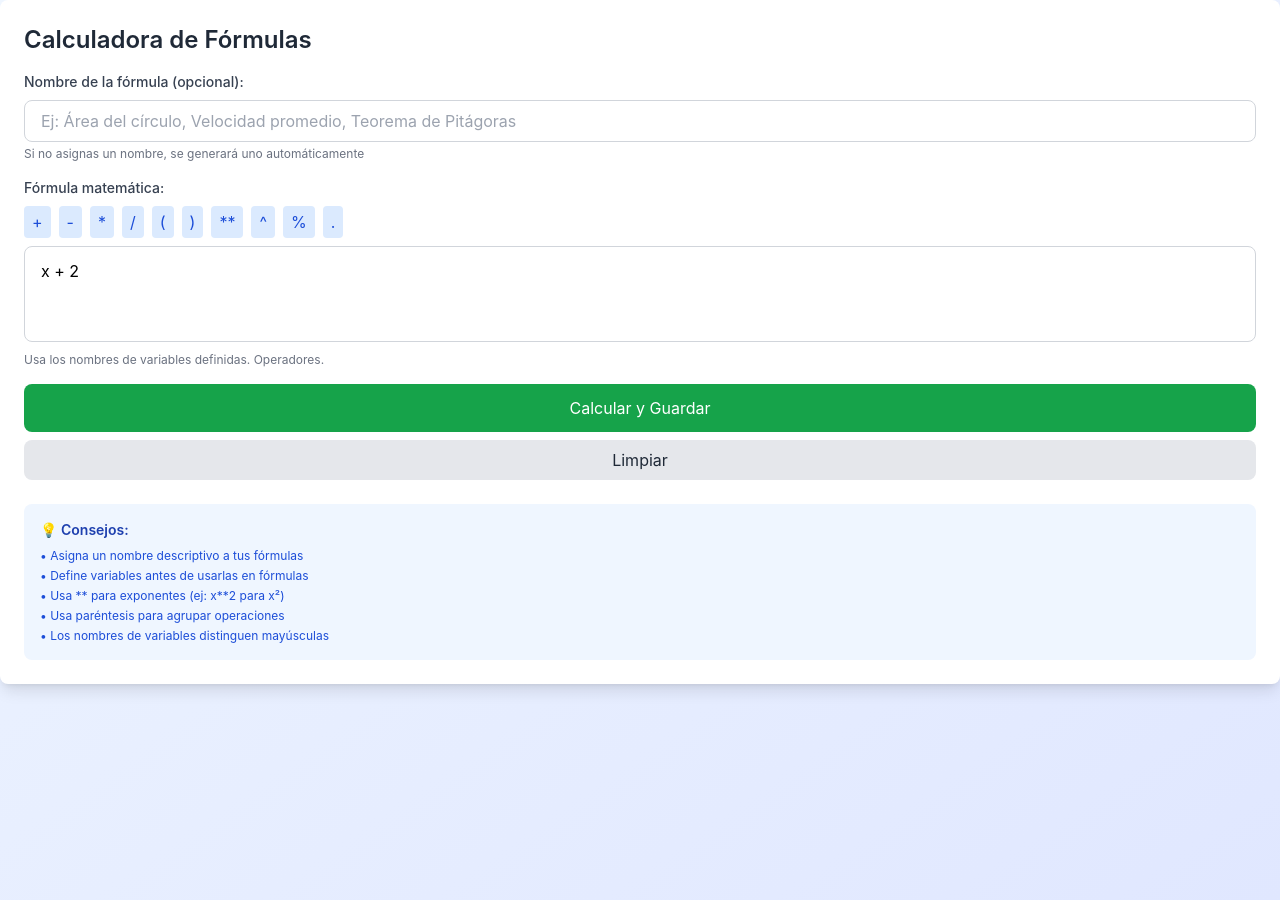
calcula y muestra el resultado al hacer clic en Calcular y Guardar
Step 1. Click the button "Calcular y Guardar" → [640, 408], box 24,384 -> 1256,432
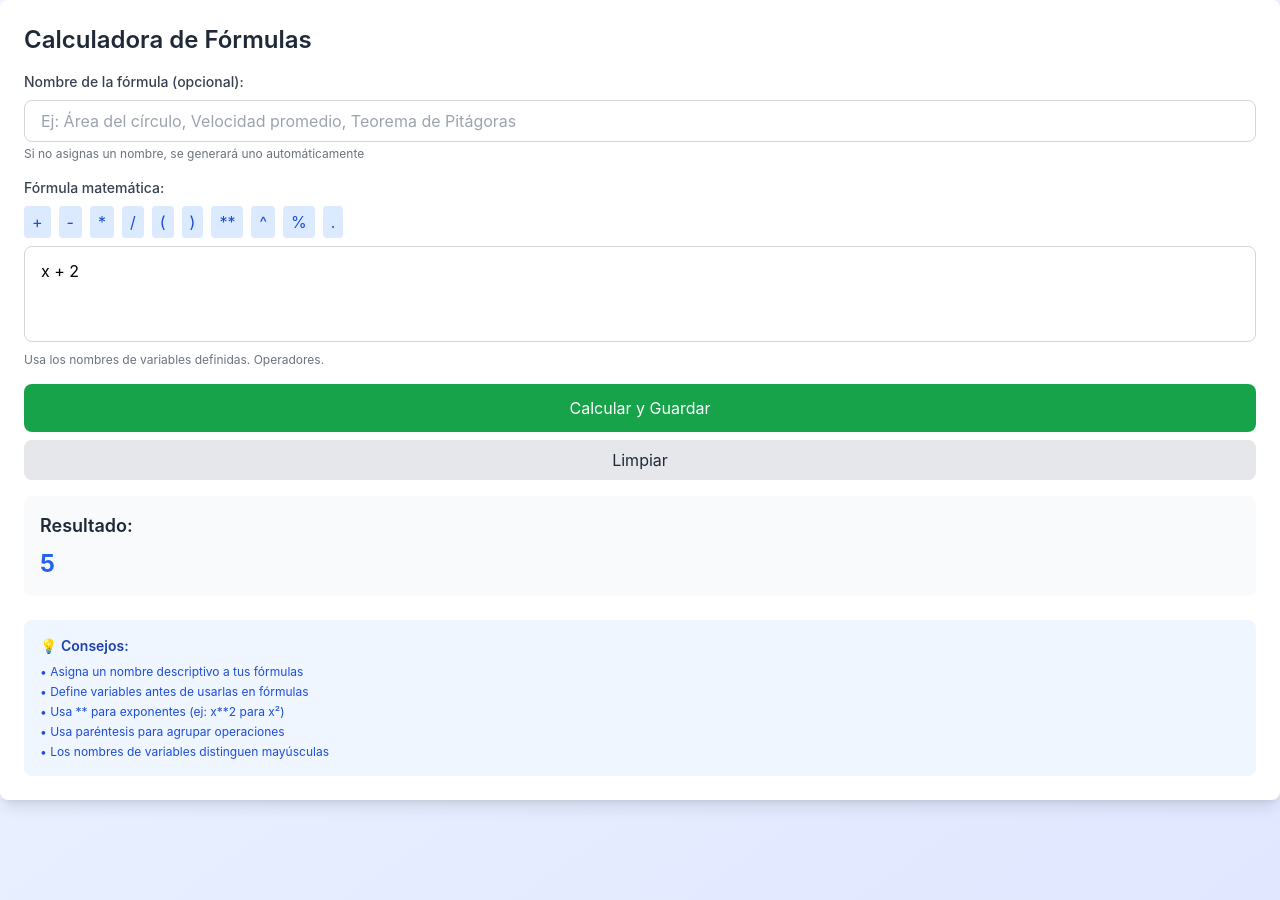
Expected: the heading "Resultado:" is shown, 40,515 -> 133,536
Expected: the text "5" is shown, 40,549 -> 55,578
